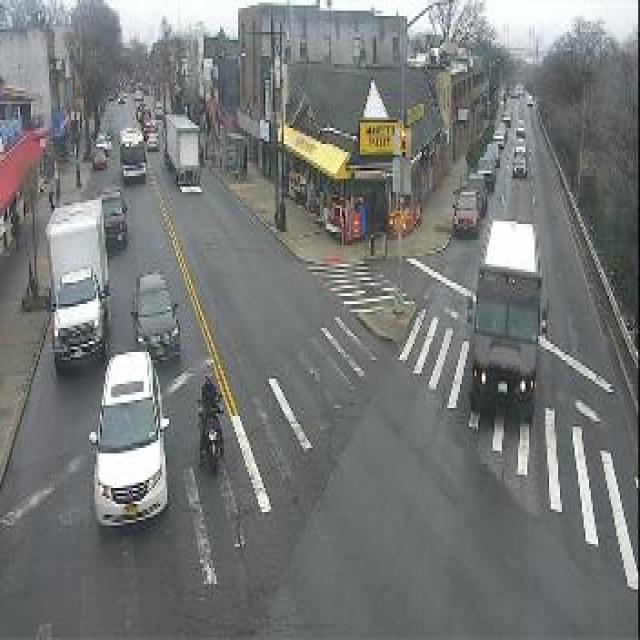open parking: (72, 126, 116, 218), (497, 106, 513, 162)
parkedCars: (429, 32, 509, 231)
